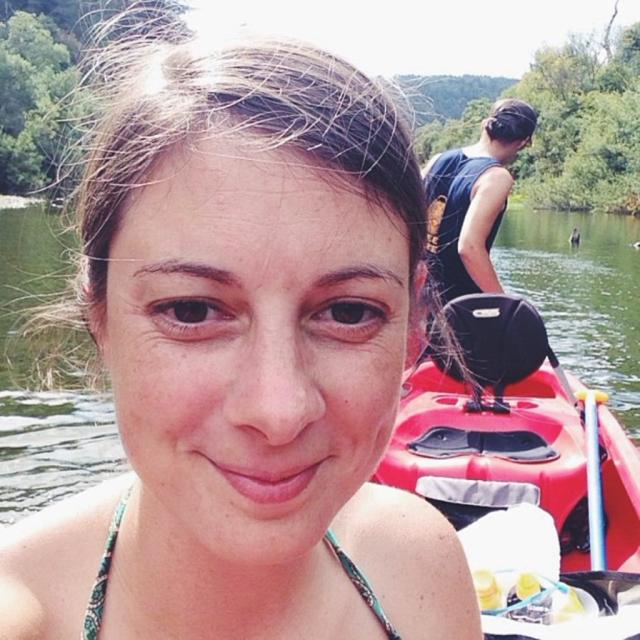Boat: (362, 288, 639, 639)
